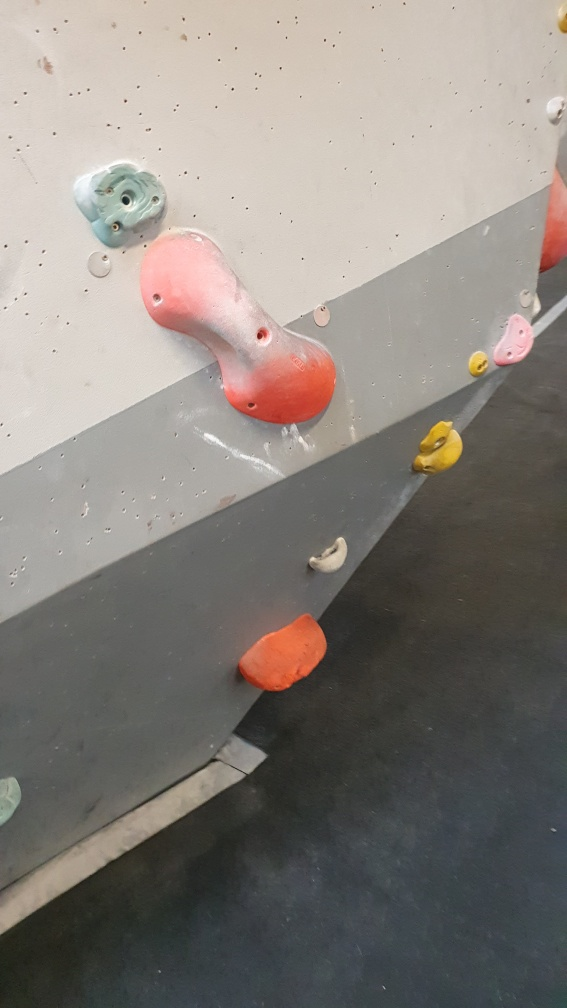Hand Start: (85, 251, 117, 281), (307, 296, 333, 329)
Jug: (306, 534, 357, 578)
Pinch: (136, 229, 336, 422)
